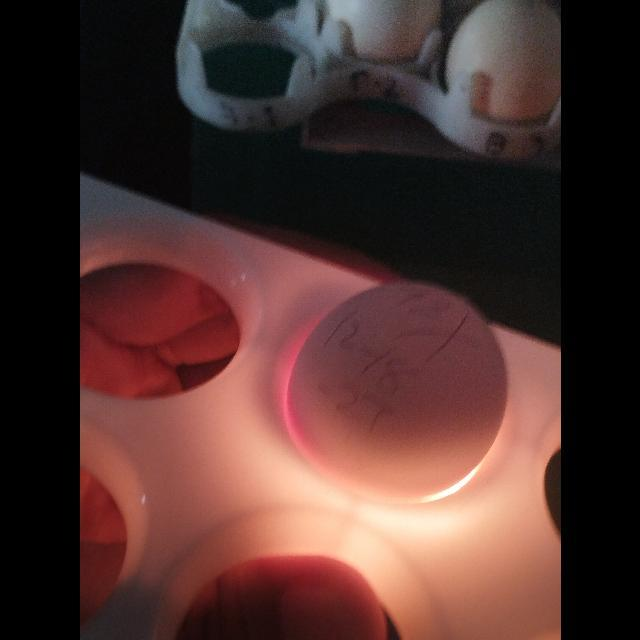Fertile: (280, 278, 512, 507)
